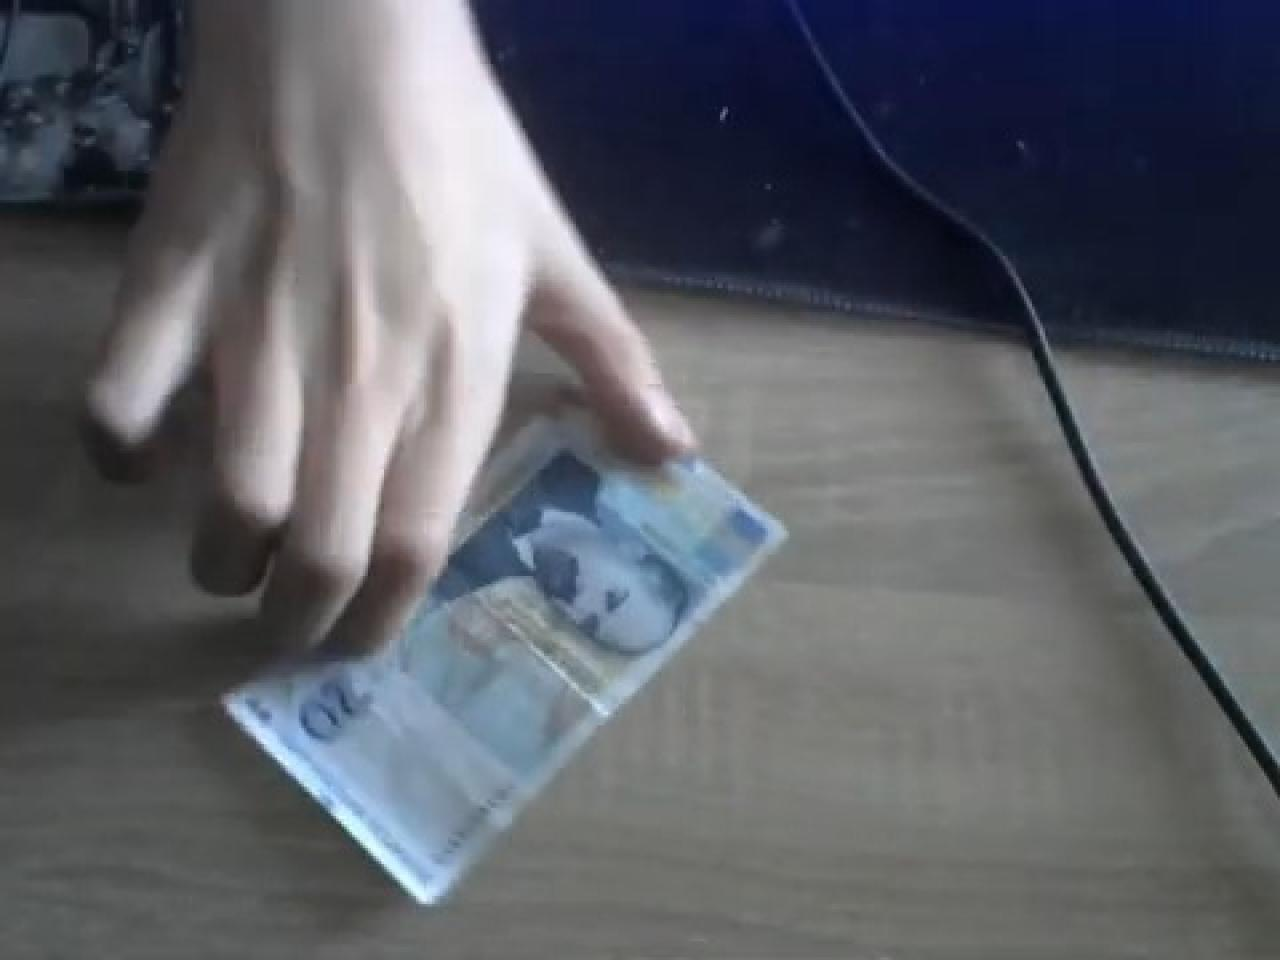20leva: (216, 402, 789, 907)
